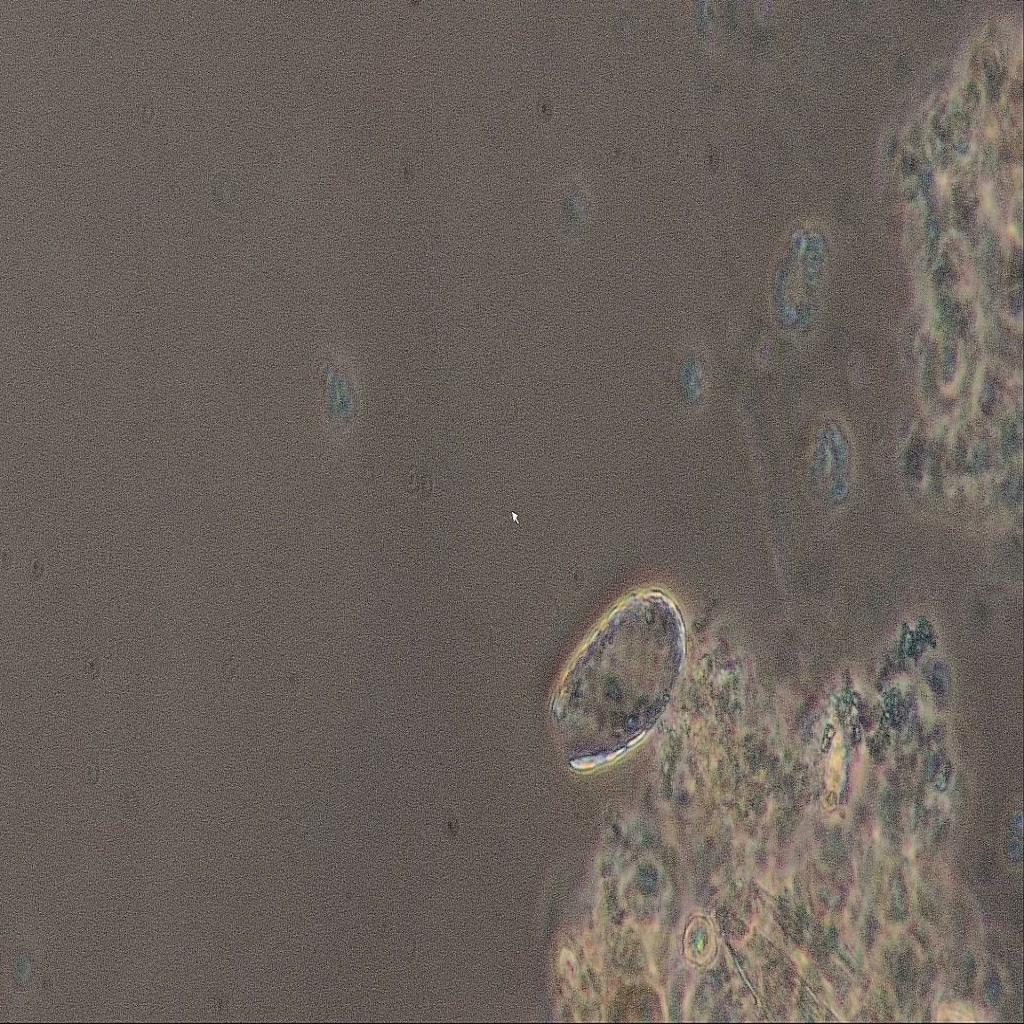Euglypha: (542, 584, 692, 786)
